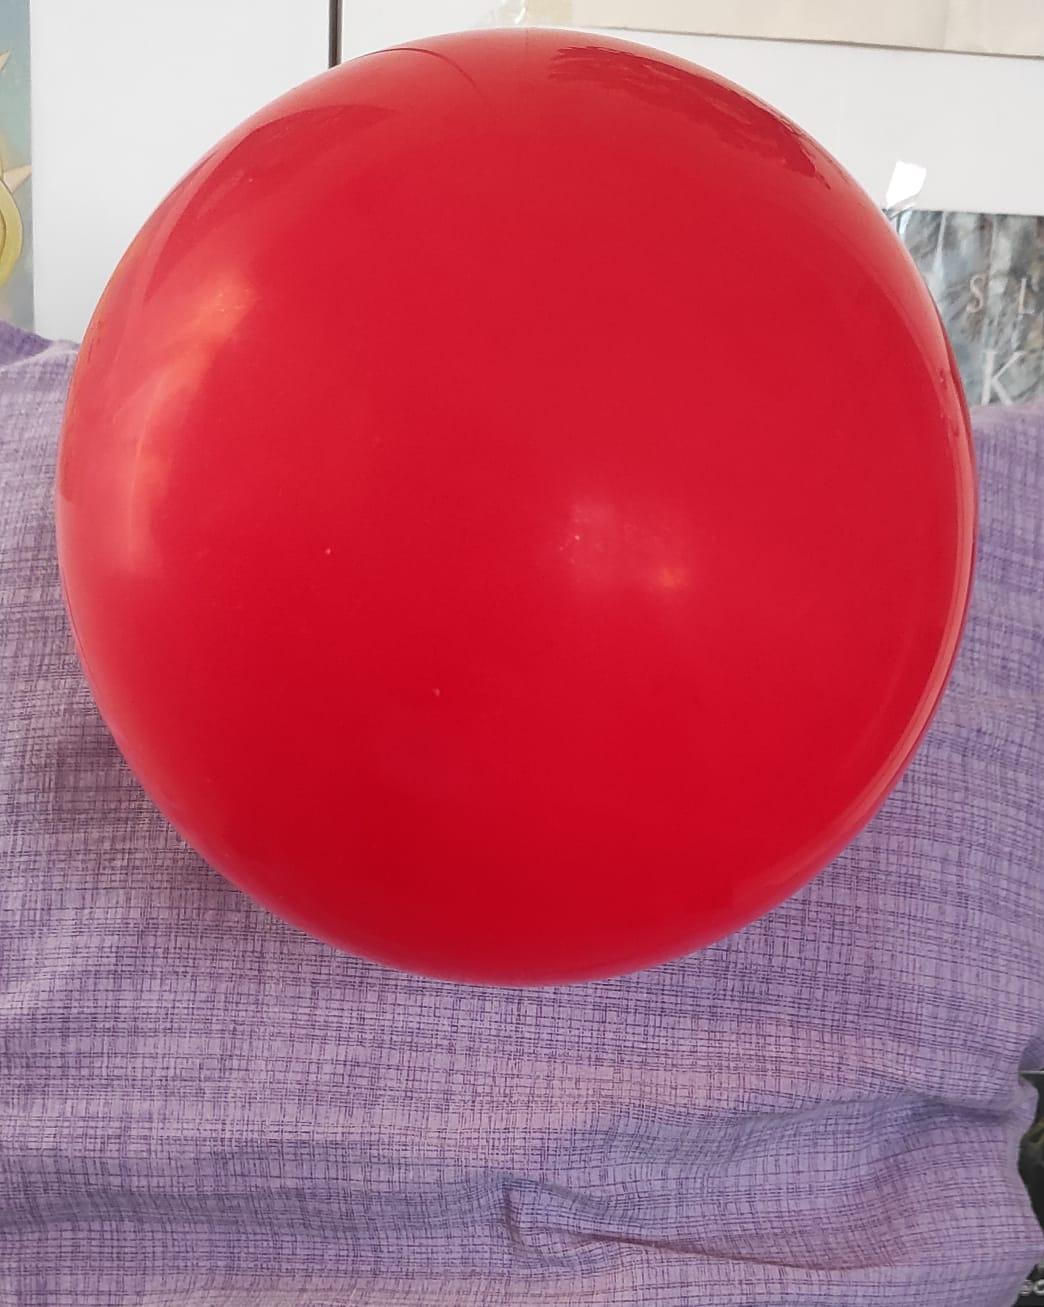red: (50, 26, 981, 985)
